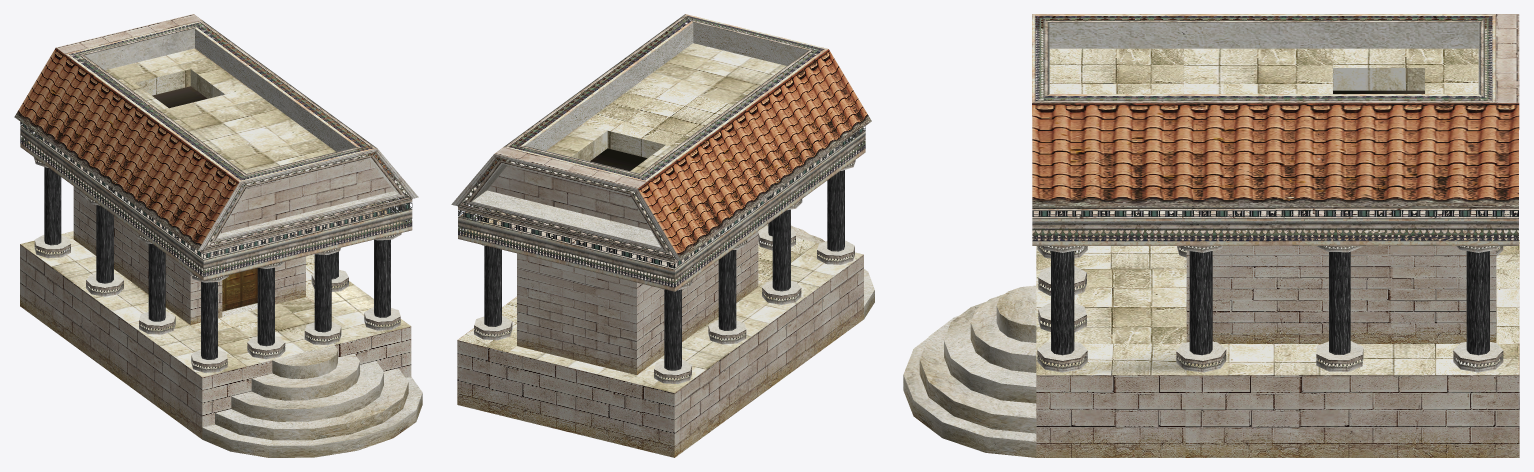
Rendered from kart_temple_big.dae.
The picture shows the model from 3 angles, left to right: view 1: azimuth 30°, elevation 25°; view 2: azimuth 150°, elevation 25°; view 3: azimuth 270°, elevation 25°; orthographic projection. The views are drawn at different scales.
Visible parts, largest first — view 1: Line13; view 2: Line13; view 3: Line13.
Boxes of the visible parts, x1,y1,x2,y2 form: Line13: (14, 14, 422, 457); Line13: (451, 14, 874, 457); Line13: (903, 14, 1519, 457).
Size of the model in its own units: 15.87 by 28.85 by 17.14.
